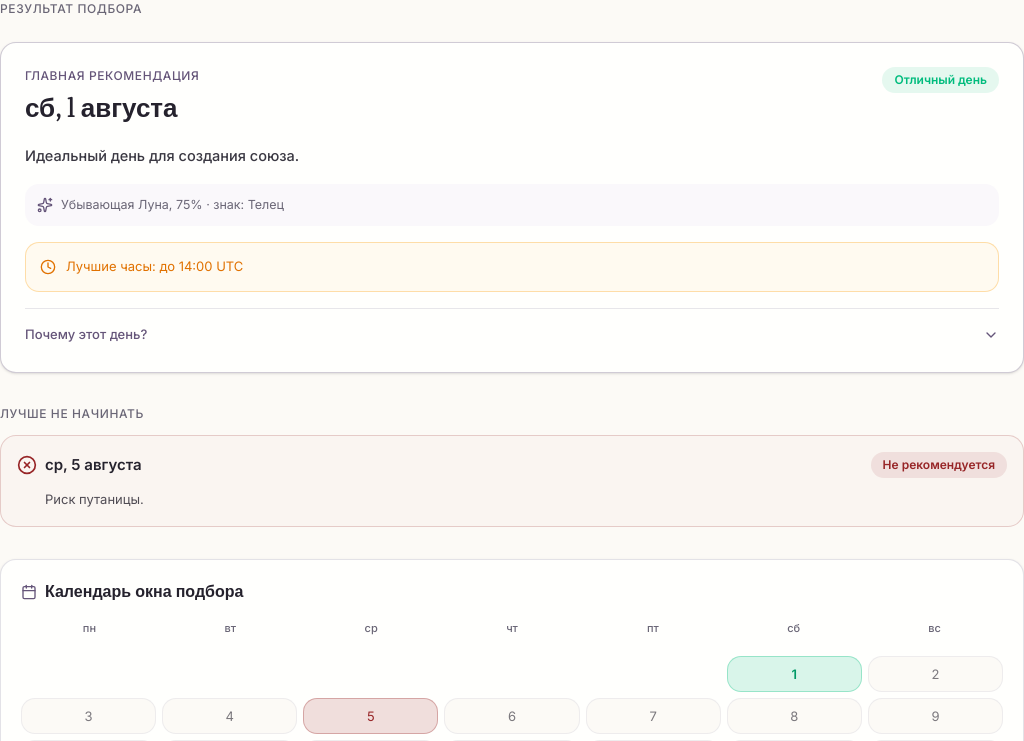
Test: ElectionResultView v2 › clicking calendar day shows the day note under the calendar
Click the button with test id "election-calendar-day-2026-08-01": (794, 674) [727,656,862,692]
(page scrolled)
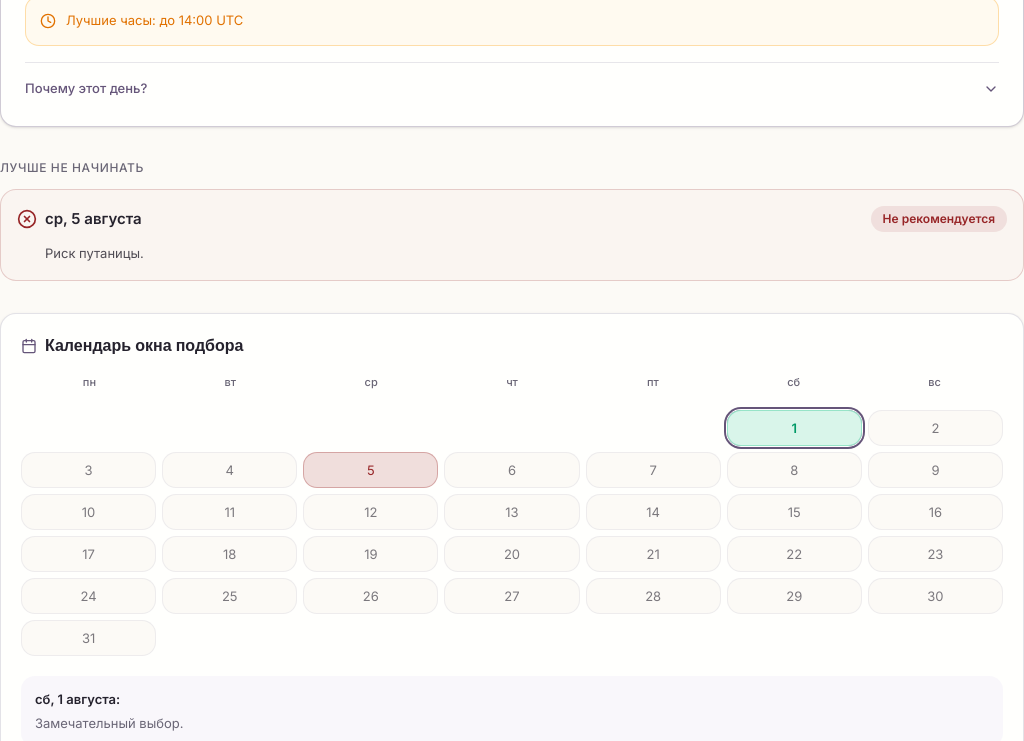
Result: the text "Замечательный выбор." is shown at [35,715,184,731]
